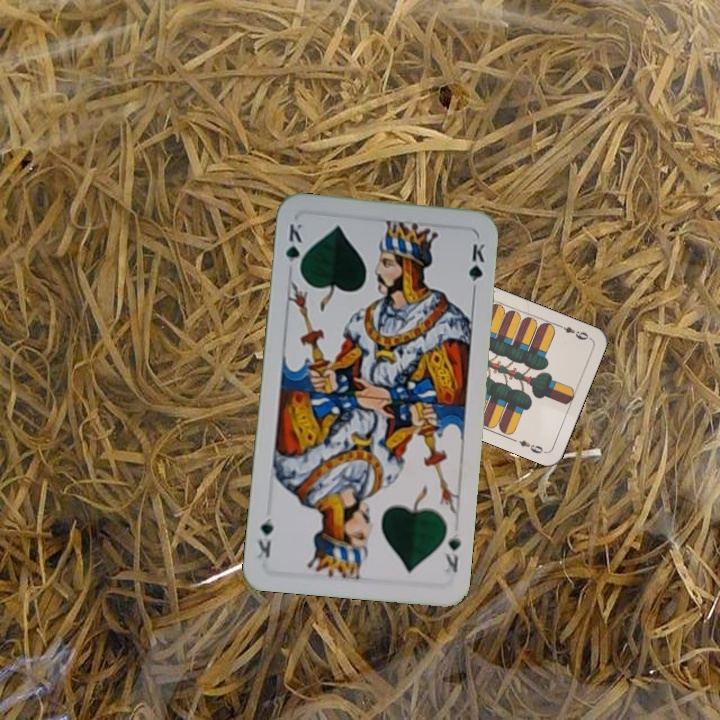E9: (554, 320, 591, 343)
GK: (281, 219, 305, 277), (440, 529, 464, 576)
